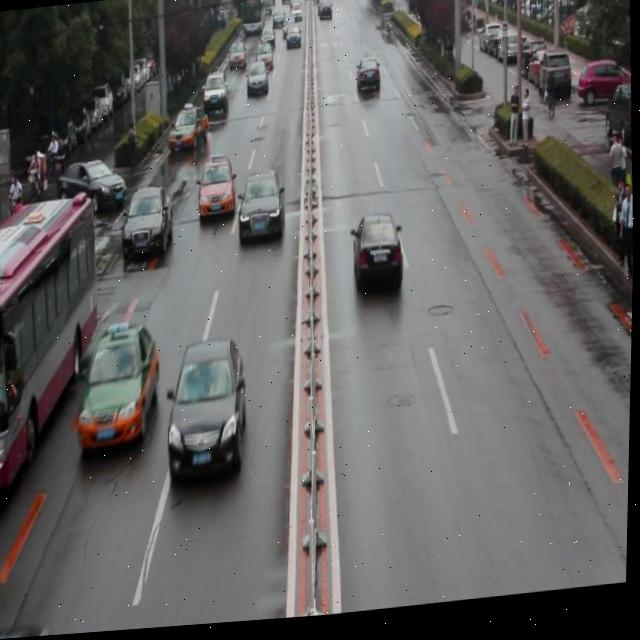car: (163, 339, 249, 488), (74, 321, 164, 451), (349, 212, 405, 302), (58, 154, 129, 217), (120, 185, 176, 263), (237, 171, 286, 244), (196, 156, 237, 225), (168, 104, 210, 156), (201, 74, 228, 120), (355, 61, 381, 101), (245, 64, 268, 103)
van: (0, 196, 105, 493)
